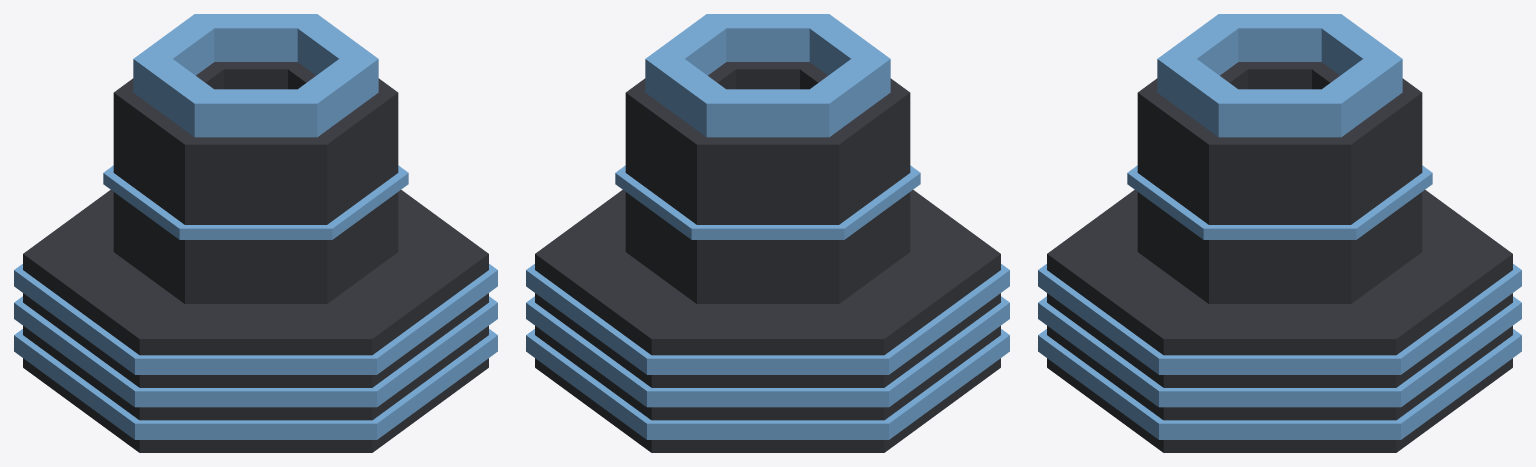
The model's file is BombTowerLvl1.glb.
3 views of the same model, side by side, from view 1: azimuth 30°, elevation 25°; view 2: azimuth 150°, elevation 25°; view 3: azimuth 270°, elevation 25° (orthographic).
Visible parts, largest first — view 1: Cylinder, Cylinder.001; view 2: Cylinder, Cylinder.001; view 3: Cylinder, Cylinder.001.
Part boxes in pixels (x1,y1,x2,y2): Cylinder: [14, 190, 497, 452]; Cylinder.001: [103, 14, 408, 303]; Cylinder: [526, 190, 1009, 452]; Cylinder.001: [615, 14, 920, 303]; Cylinder: [1038, 190, 1521, 452]; Cylinder.001: [1127, 14, 1432, 303].
Bounding box in the file's own units: 2.93 × 2.38 × 3.38.
